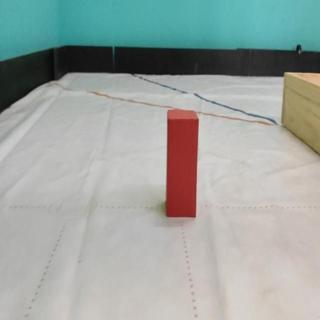redbox: (165, 107, 199, 218)
